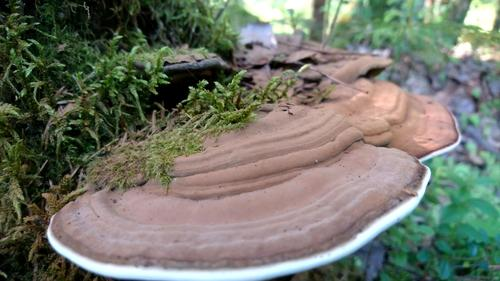Ganoderma - Fruit Body: (43, 31, 463, 280)
